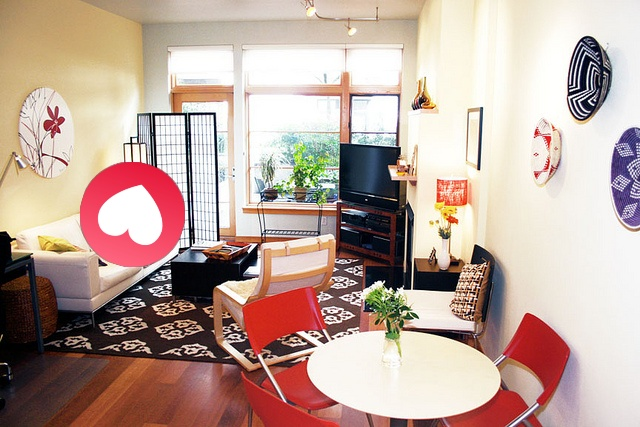love: (80, 162, 185, 267)
